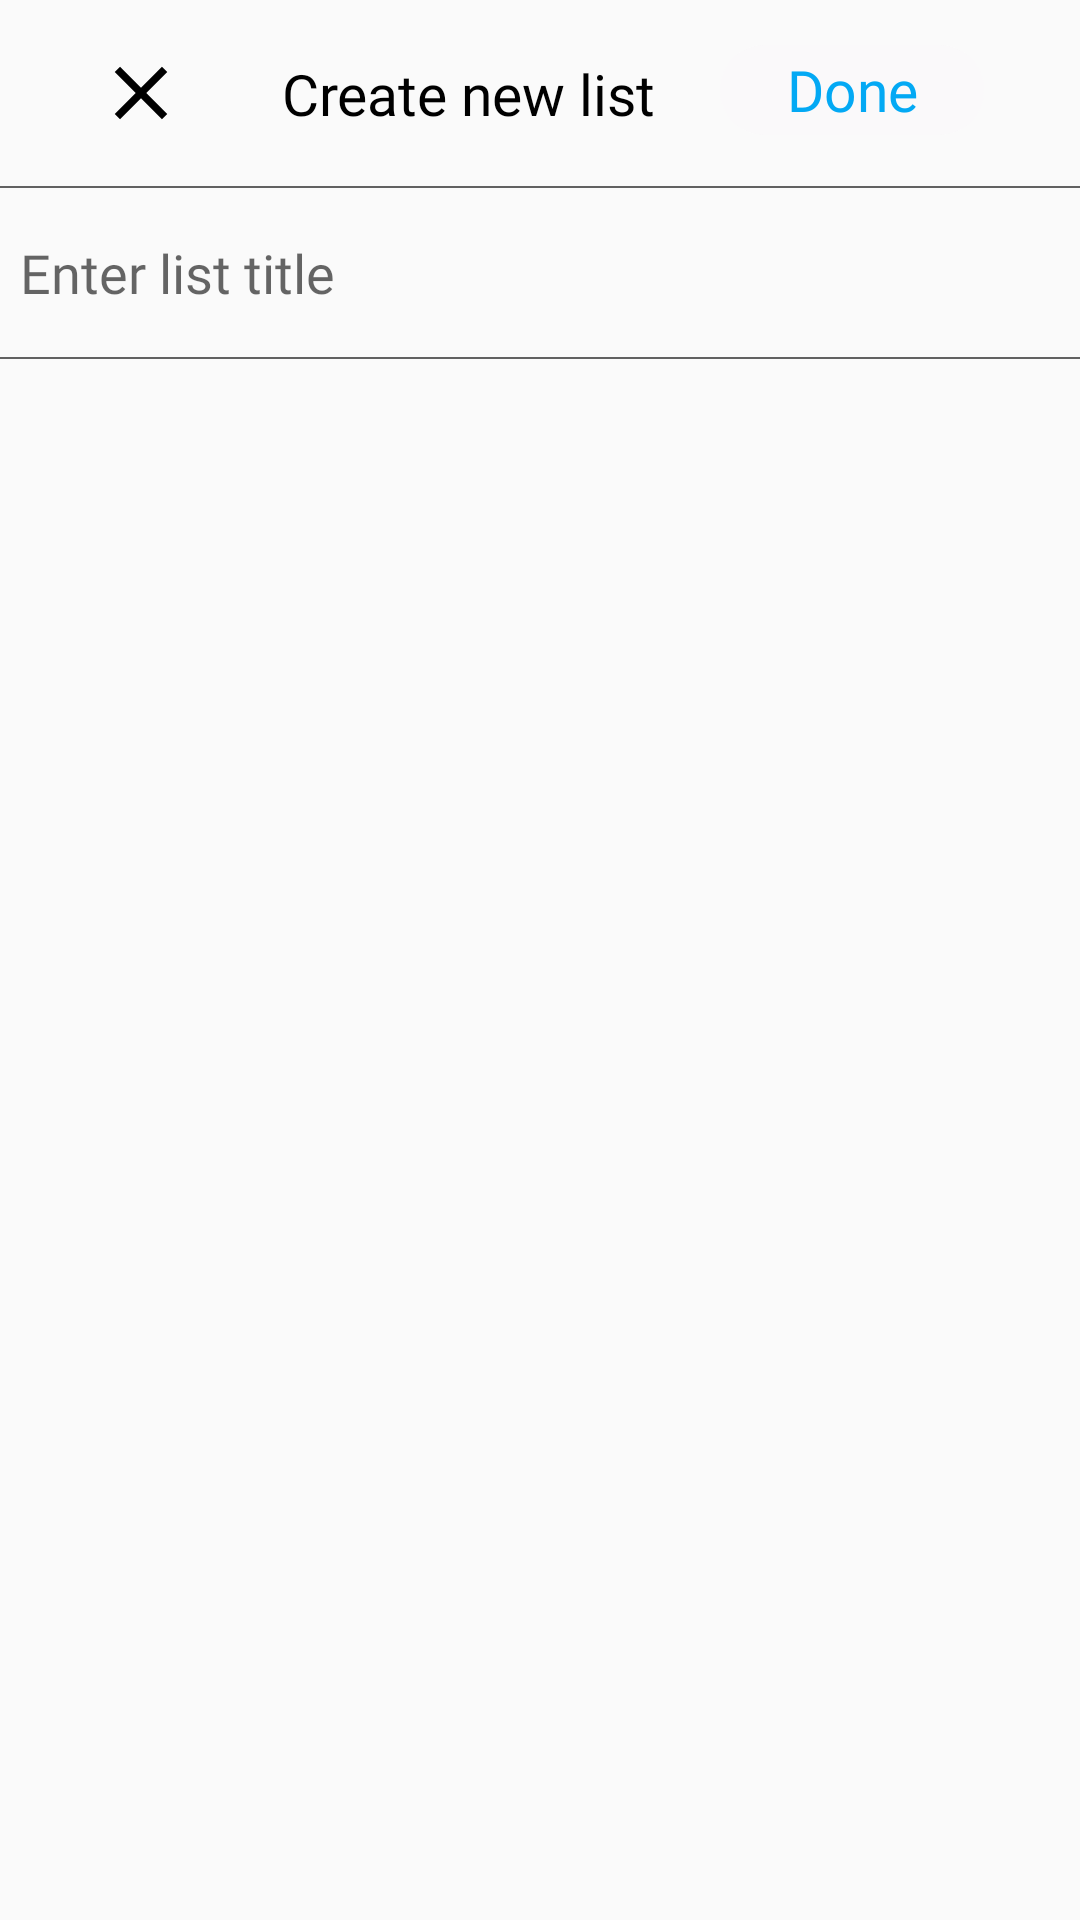

Where to tap for icons on this 1080×1920 app screen, as (x,y):
close: (141,93)
